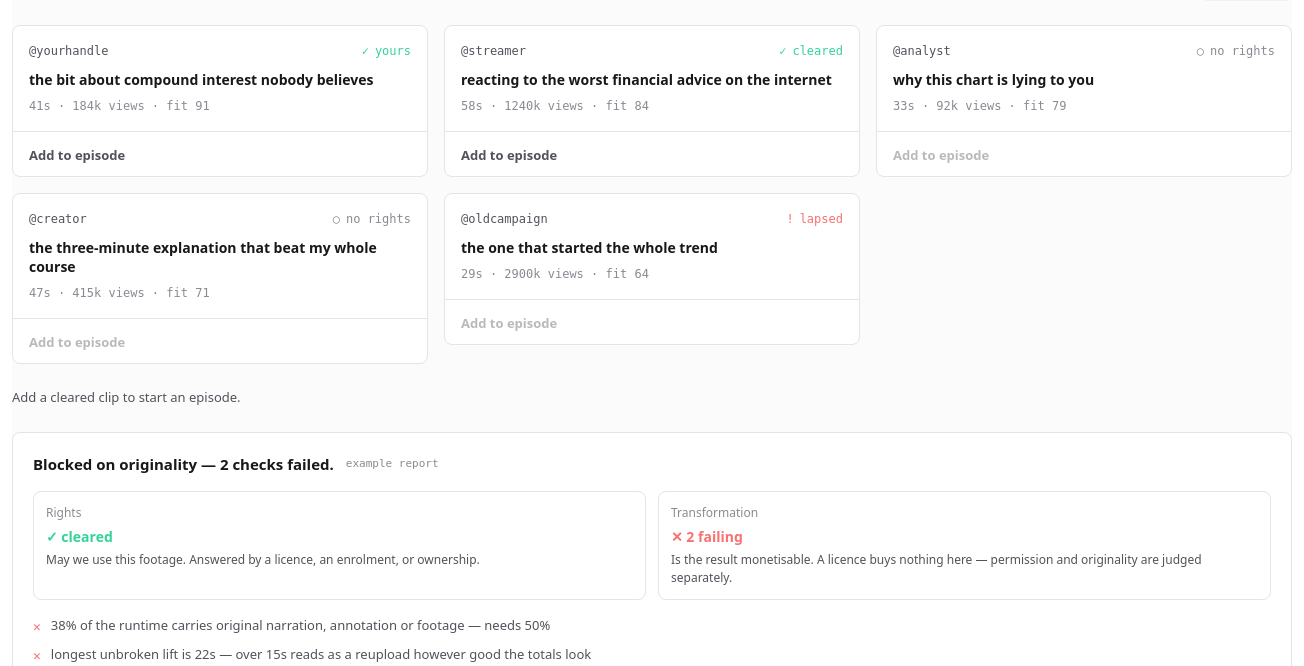
it: the build action › appears once a cleared clip is added
Click the 1st button "Add to episode".
click(77, 156)  # box left=29, top=146, right=125, bottom=165
(page scrolled)
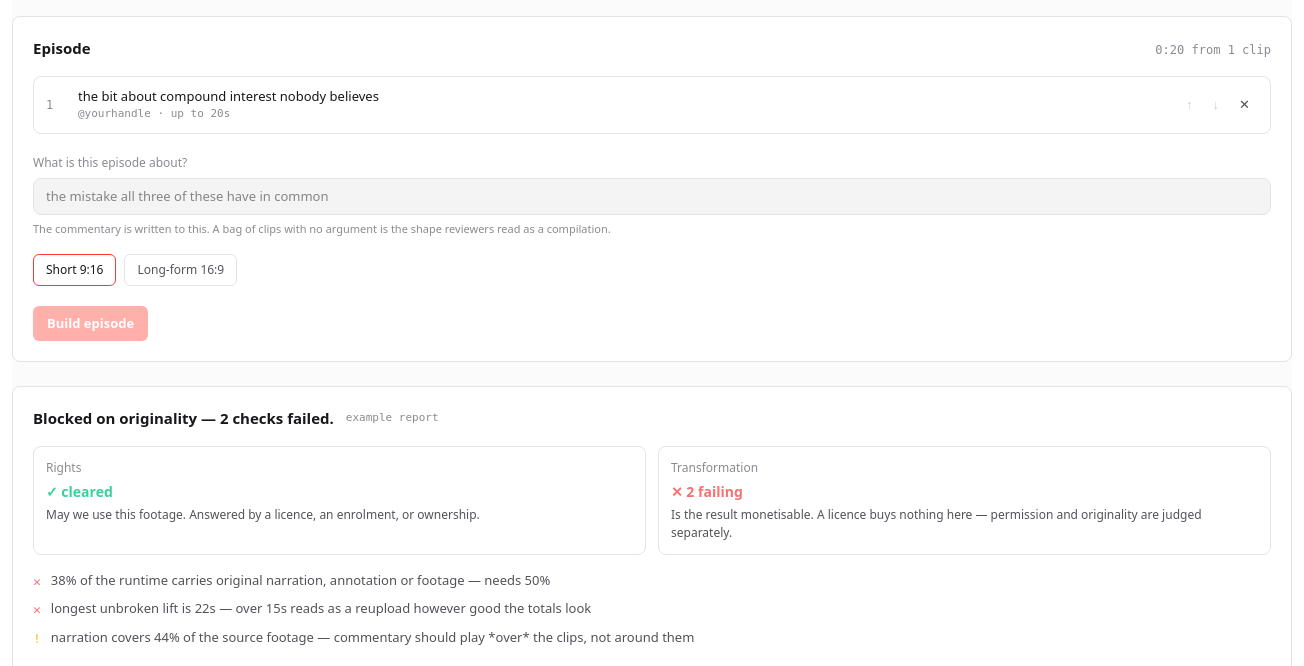
Expected: the button "Build episode" is shown, left=33, top=306, right=148, bottom=341
